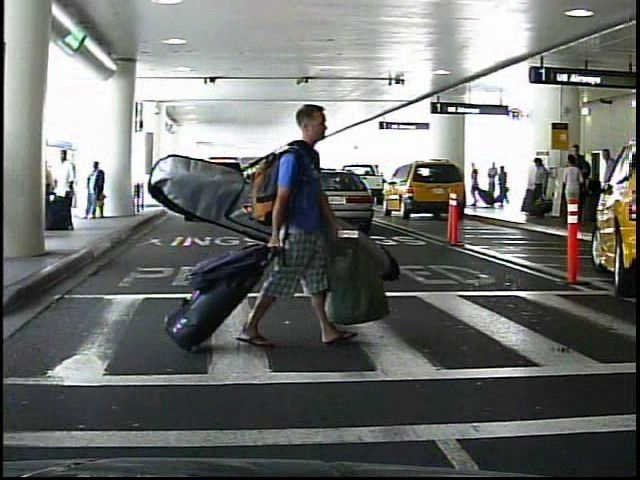person: (263, 93, 359, 365), (48, 146, 80, 233), (594, 146, 620, 237), (80, 158, 107, 225), (559, 155, 583, 225), (565, 143, 586, 222), (528, 157, 551, 223), (467, 160, 481, 208), (487, 161, 500, 209), (496, 162, 507, 206)
